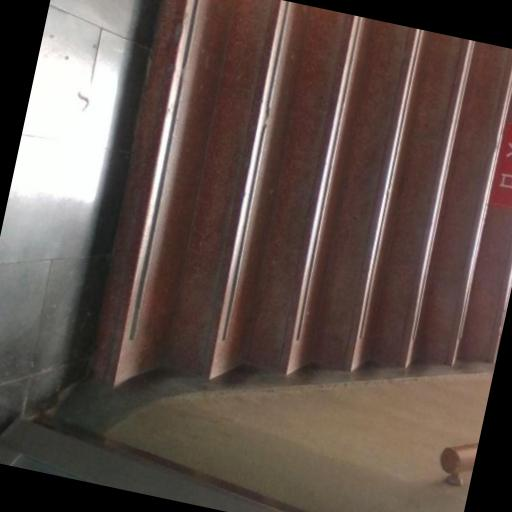stairs: (94, 0, 511, 384)
